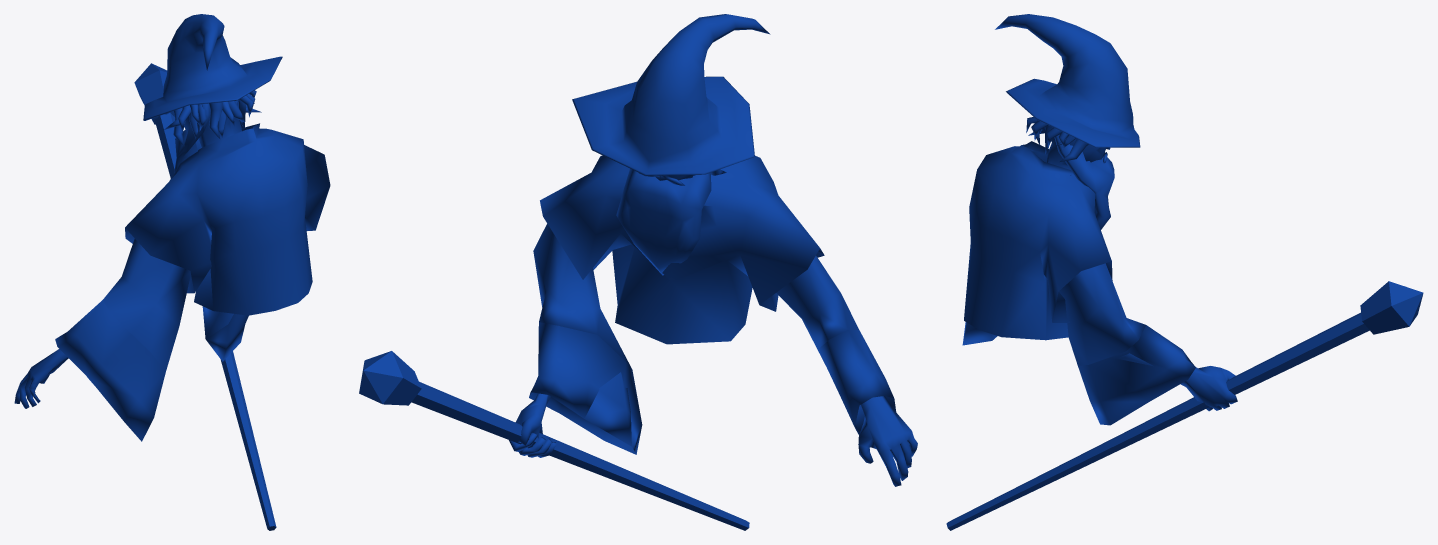
The model's file is top_000064.obj.
3 renders of one model, left to right at view 1: azimuth 30°, elevation 25°; view 2: azimuth 150°, elevation 25°; view 3: azimuth 270°, elevation 25°, orthographic. The views are drawn at different scales.
Parts seen in each view (by area): view 1: Wizard_Plane.002; view 2: Wizard_Plane.002; view 3: Wizard_Plane.002.
Part boxes in pixels (left/top/right/bottom): Wizard_Plane.002: left=14, top=14, right=330, bottom=530; Wizard_Plane.002: left=359, top=14, right=917, bottom=530; Wizard_Plane.002: left=946, top=14, right=1423, bottom=530.
Bounding box in the file's own units: 1.15 × 1.68 × 1.44.
